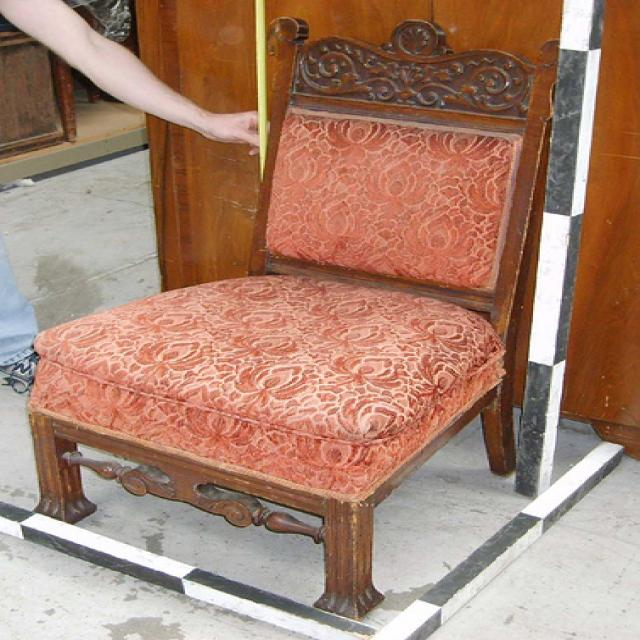chair: (25, 17, 561, 621)
